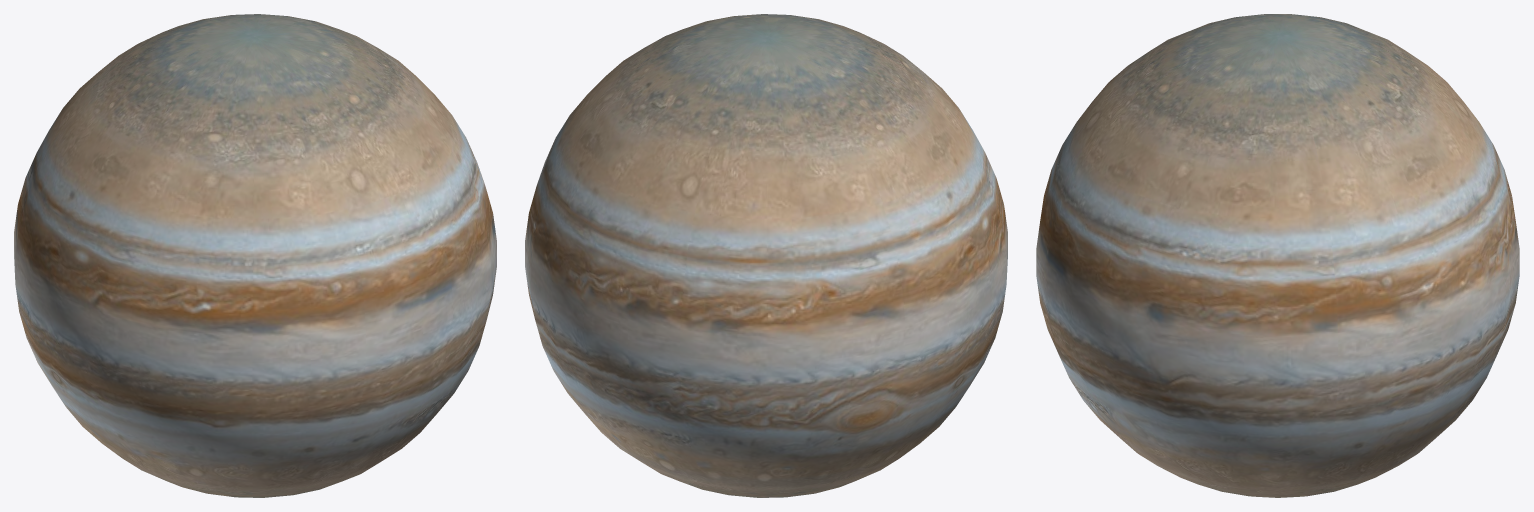
The model's file is jupiter.obj.
3 views of the same model, side by side, from view 1: azimuth 30°, elevation 25°; view 2: azimuth 150°, elevation 25°; view 3: azimuth 270°, elevation 25° (orthographic).
Parts seen in each view (by area): view 1: jupiter; view 2: jupiter; view 3: jupiter.
Boxes of the visible parts, bbox=[...] form: jupiter: bbox=[14, 14, 496, 497]; jupiter: bbox=[525, 14, 1007, 497]; jupiter: bbox=[1036, 14, 1519, 497].
Bounding box in the file's own units: 38.71 × 38.94 × 38.78.
Materials: 1 (1 with a texture image).
